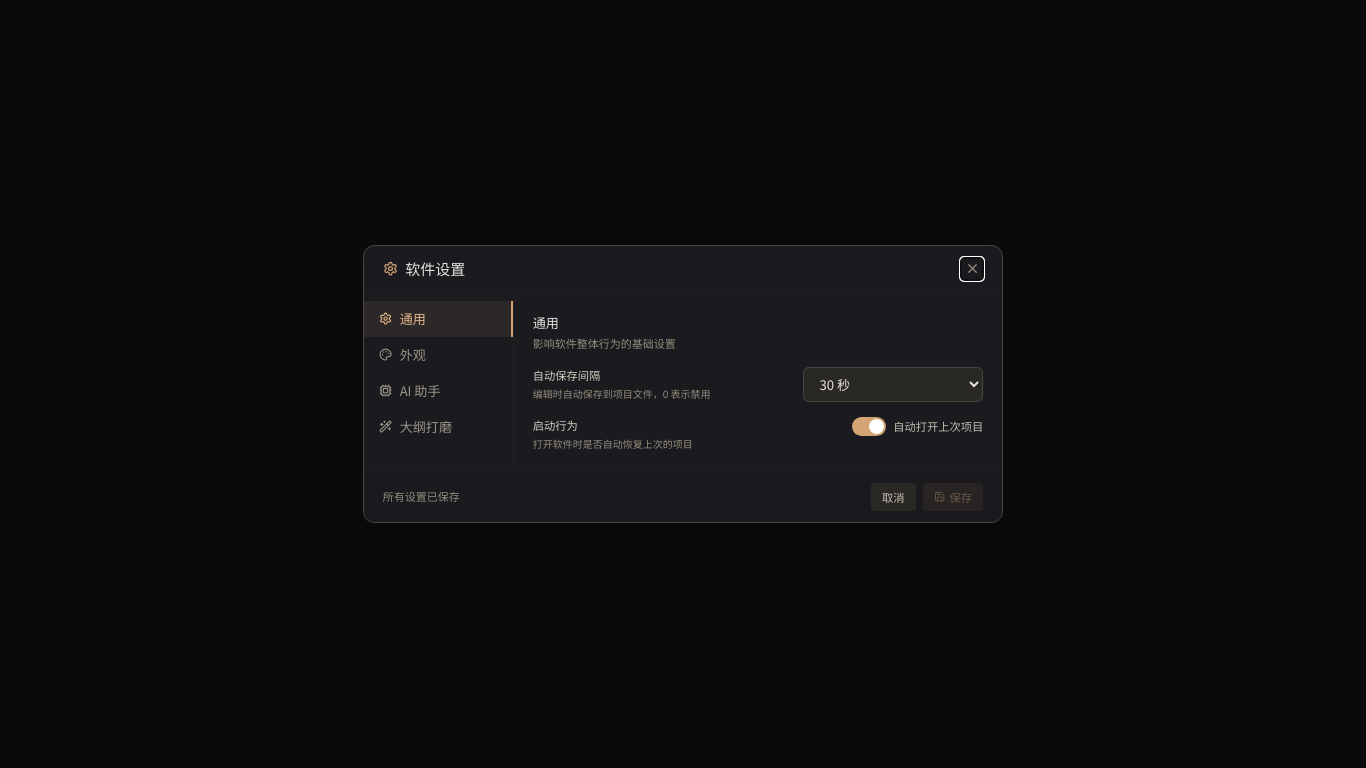
Test case: SettingsModal › 点击"大纲打磨"切换 section
Click the button "大纲打磨" at (438,427), box [364,409,513,445]
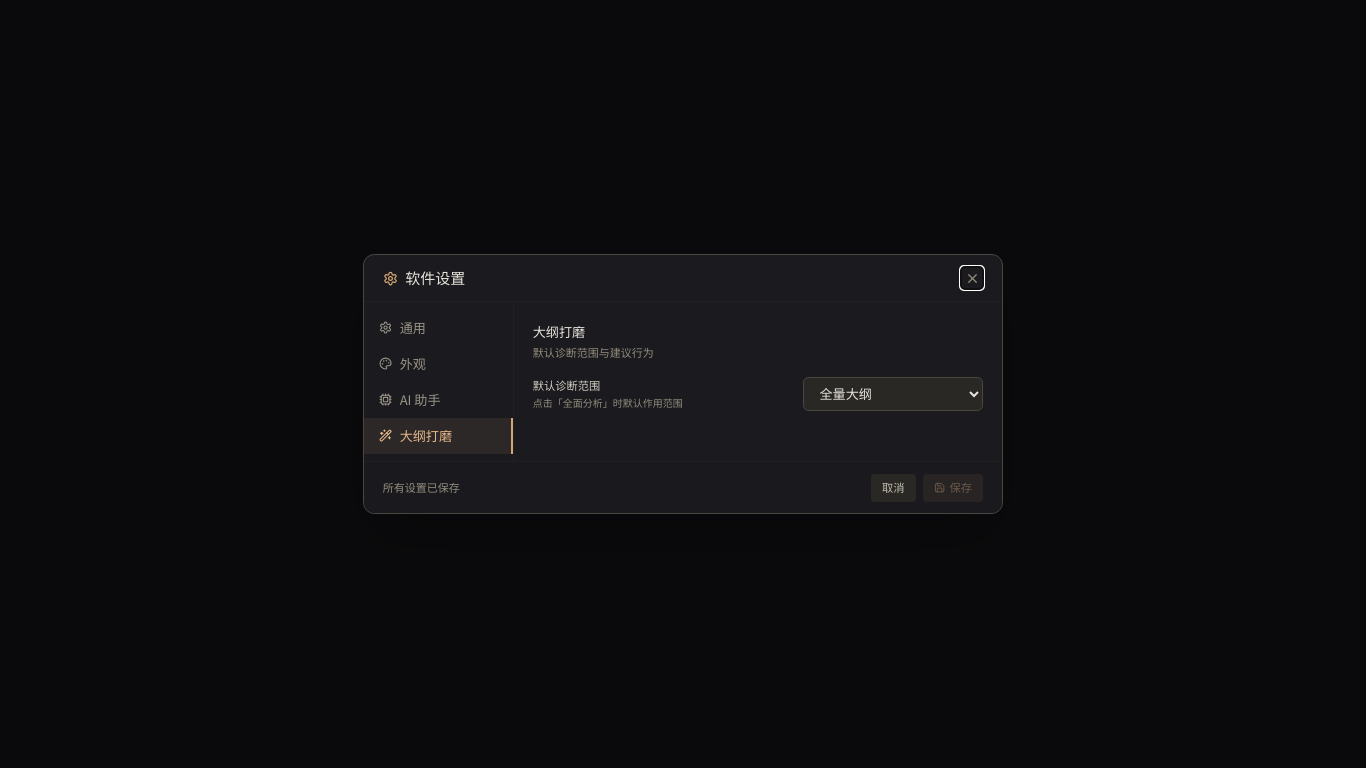
expect the text "默认诊断范围与建议行为" is shown: met, box [533,344,654,360]
